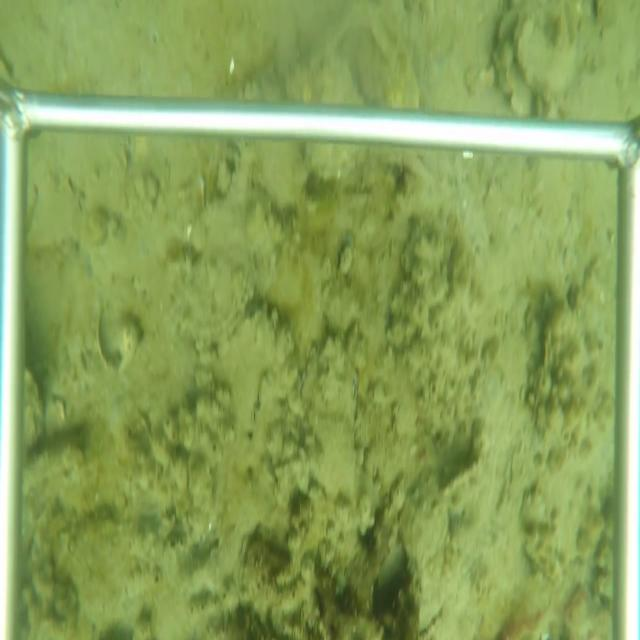Oyster-Closed: (173, 147, 261, 351), (296, 339, 320, 415)
Oyster-Indeterminate: (530, 256, 609, 459), (398, 470, 454, 637), (514, 2, 581, 96), (442, 459, 485, 499)
